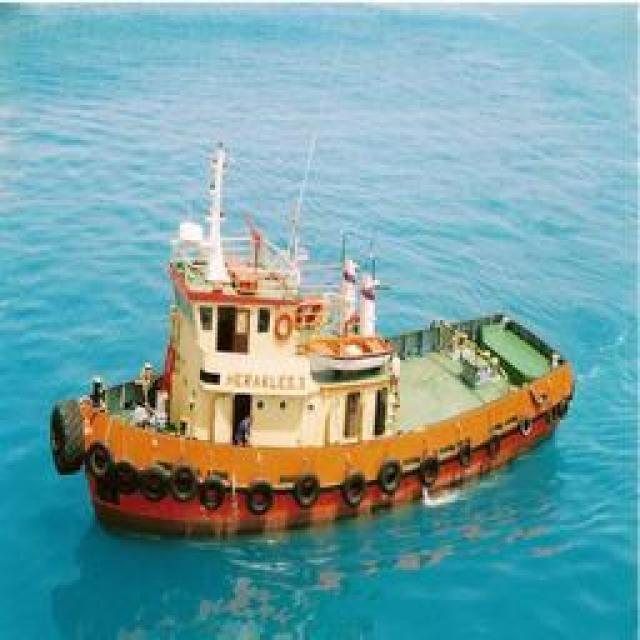ship2: (49, 143, 575, 542)
